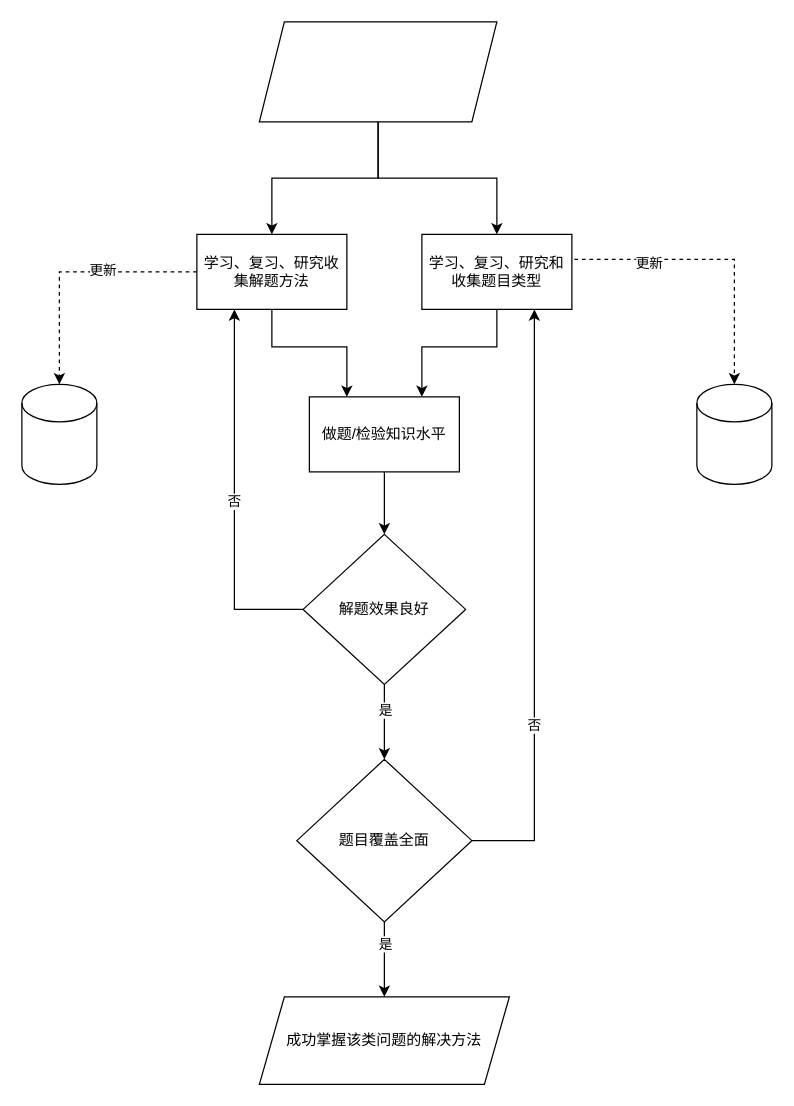
Image size: 794x1106. Some labels were removed from this diagram. Here are the shapes that lost their labels. From the top down, the centre of each, then its label:
the point at 377,71: 想掌握解决某类问题的方法
the point at 59,433: 知识库
the point at 734,433: 题型库
